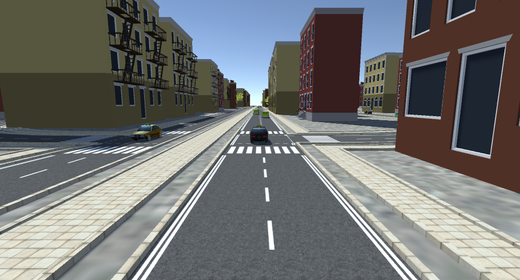centerstrip: (256, 140, 276, 276)
sidestripe: (298, 149, 420, 278), (129, 154, 229, 278)
